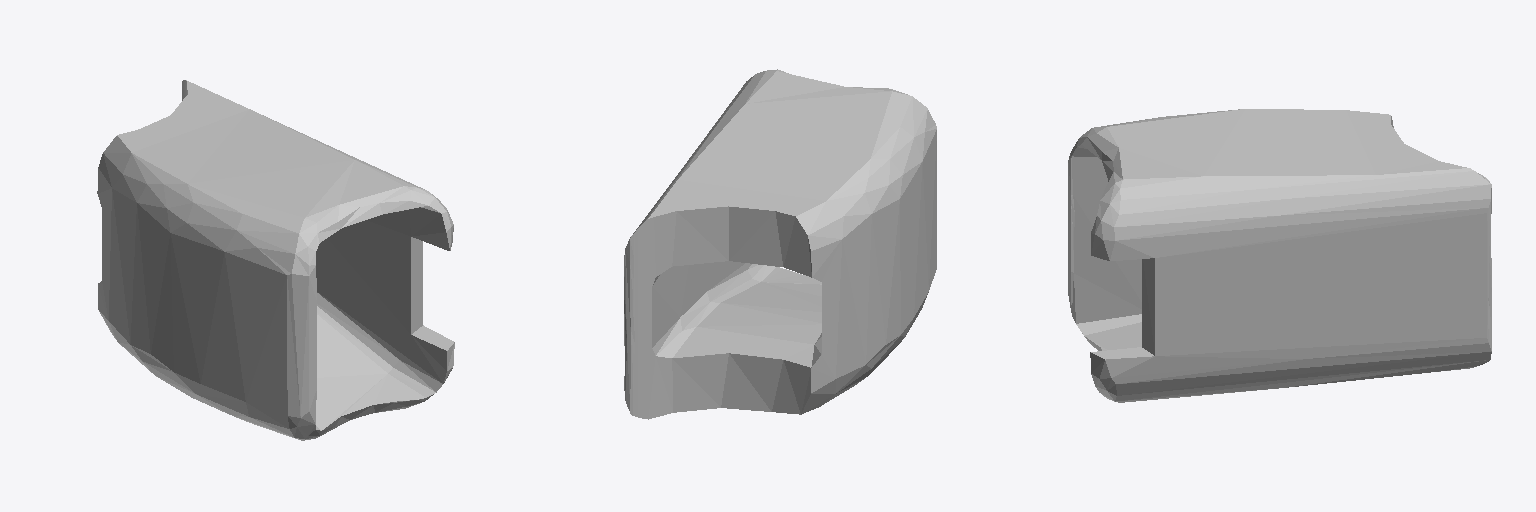
File: right_collision_ring_pp_skin_mesh_mesh.obj
The picture shows the model from 3 angles: view 1: azimuth 30°, elevation 25°; view 2: azimuth 150°, elevation 25°; view 3: azimuth 270°, elevation 25°; orthographic projection.
Size of the model in its own units: 0.0222 by 0.0209 by 0.0363.